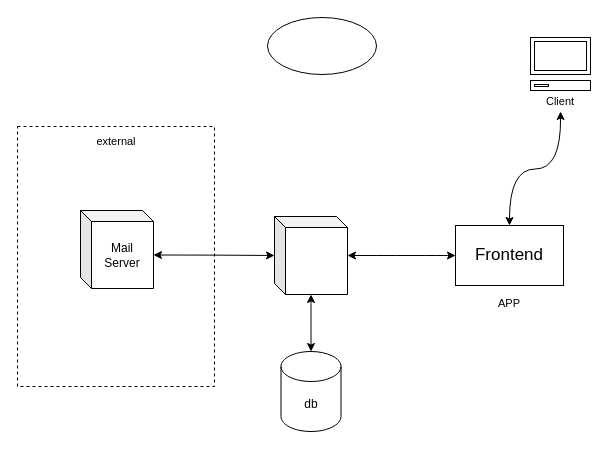
The diagram is 608 pixels wide and 449 high, and some of its shapes have lost their labels. The shapes that lost their labels are listed below. From the top down, each one's centre as x and y in pixels, then its label:
At [321,45]: "outa.one".
At [311,255]: "Backend".
